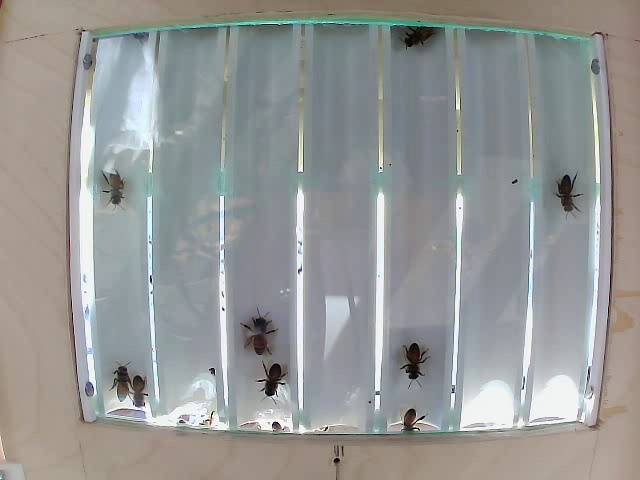bee: (86, 156, 136, 206), (541, 168, 585, 215), (245, 361, 292, 404), (403, 337, 437, 382), (412, 11, 439, 66), (241, 315, 280, 353), (124, 375, 159, 410), (104, 364, 137, 400)
